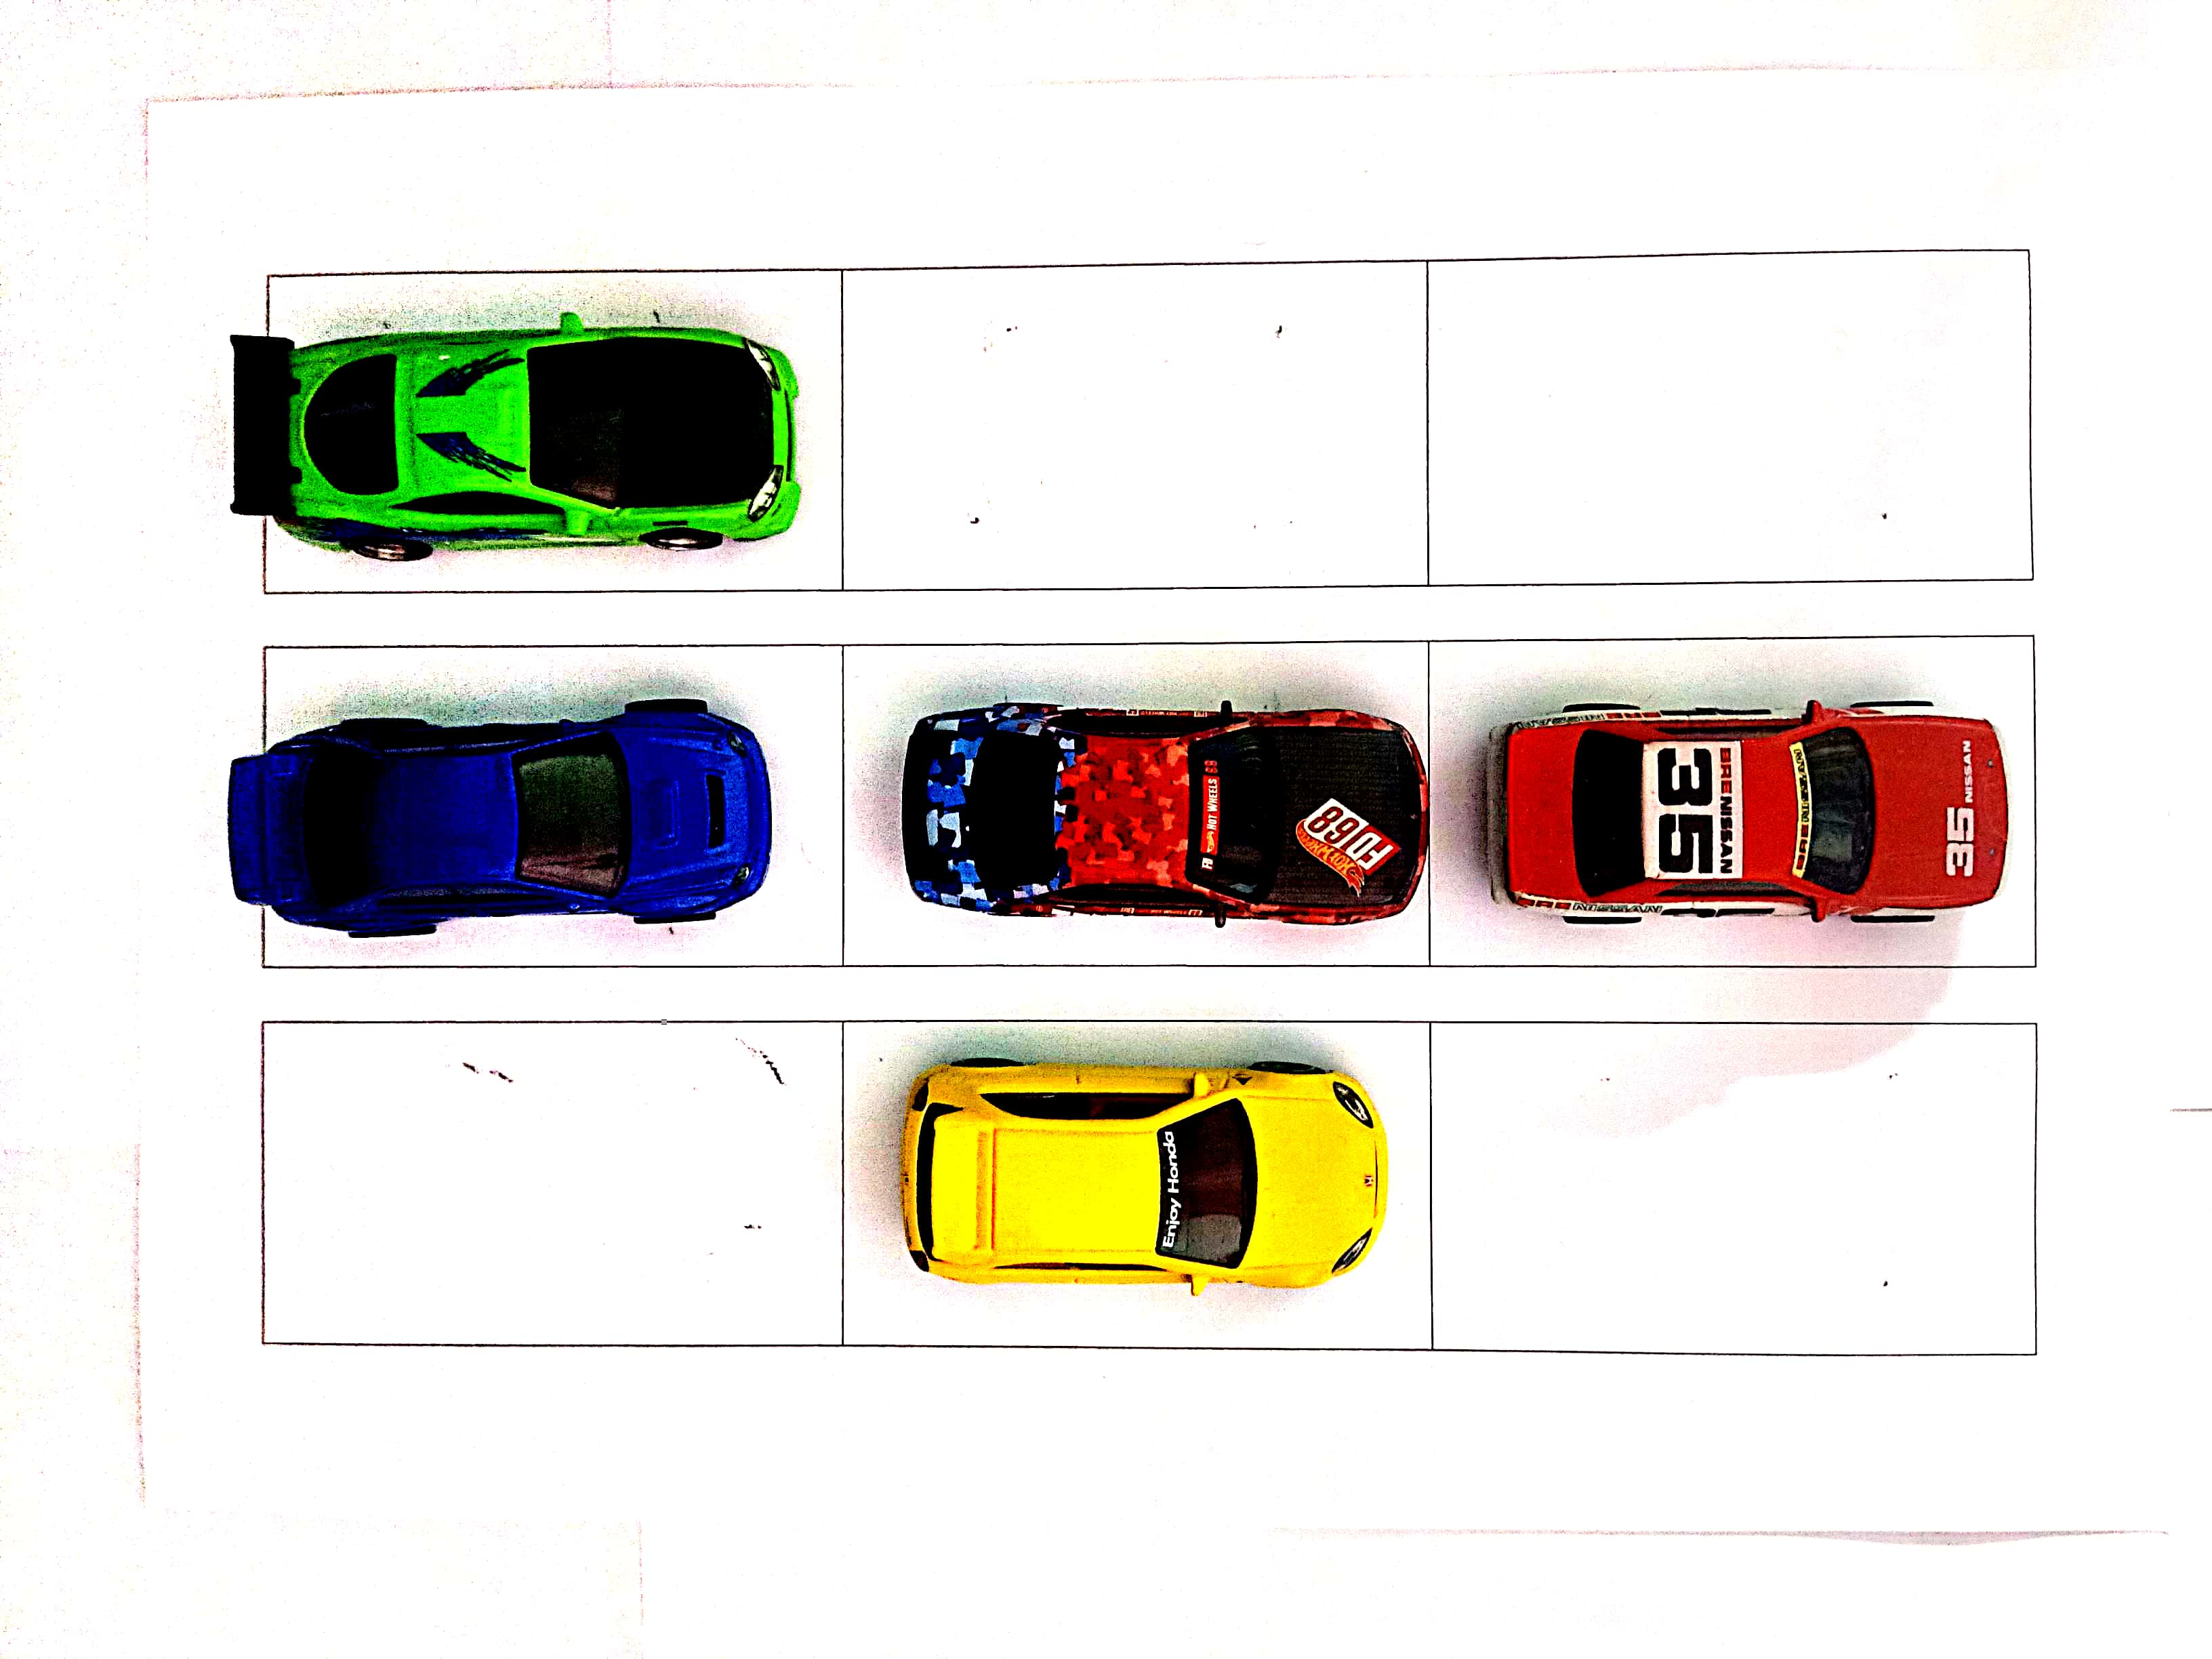Busy: (840, 640, 1433, 964), (1437, 640, 2033, 958), (848, 1023, 1425, 1345), (261, 648, 843, 967), (265, 279, 843, 586)
Free: (1428, 253, 2020, 594), (261, 1011, 848, 1342), (840, 258, 1423, 584), (1437, 1026, 2029, 1345)
